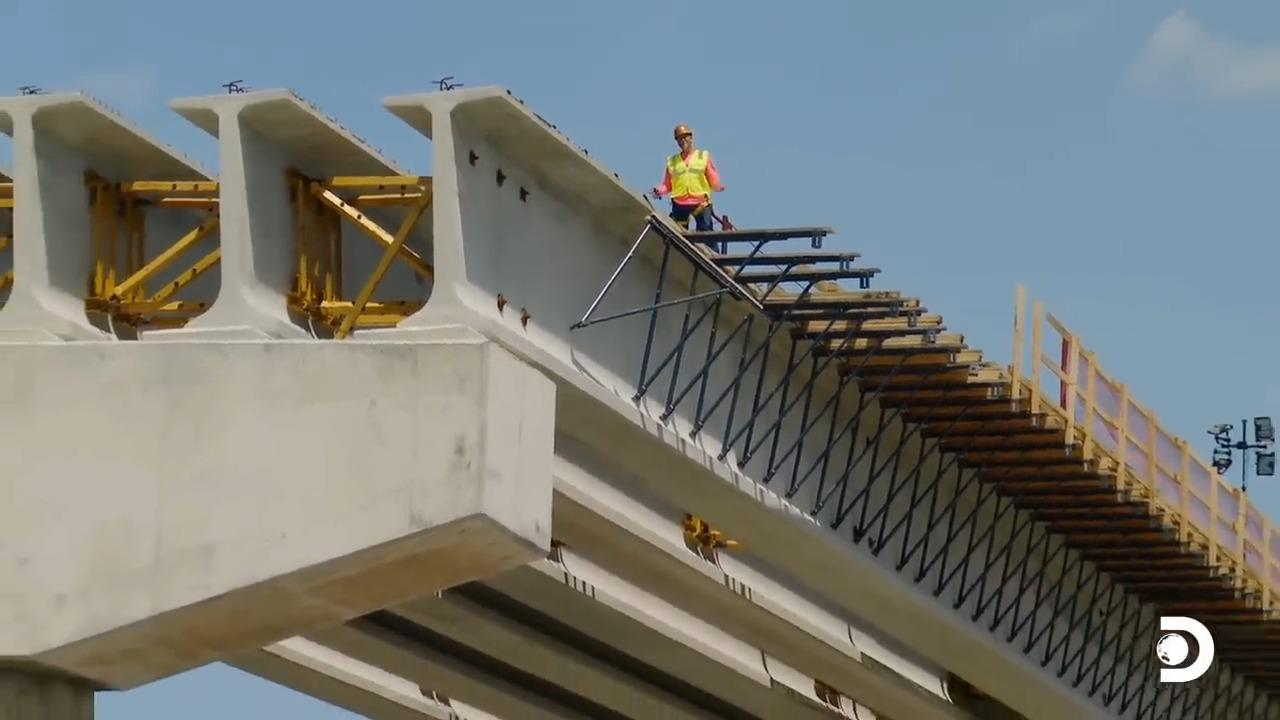Helmet: (674, 123, 692, 139)
Person: (652, 123, 725, 254)
Safety Vest: (669, 161, 708, 198)
